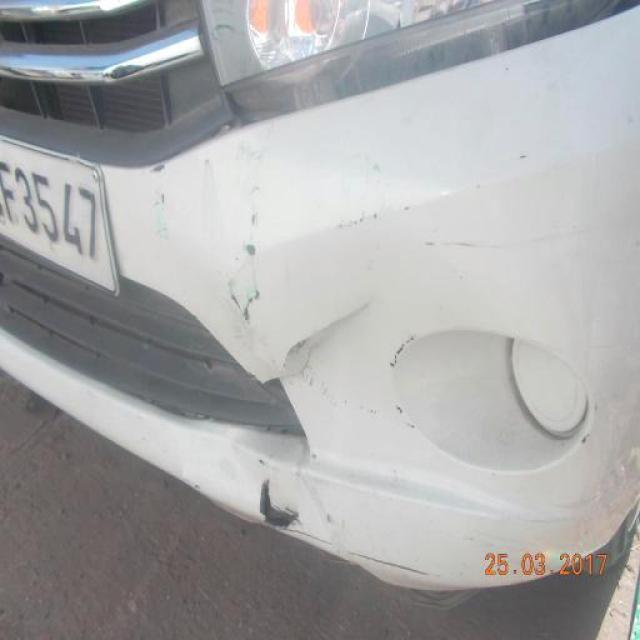Car-Damage: (226, 236, 267, 317), (257, 479, 306, 538), (150, 157, 173, 244)
